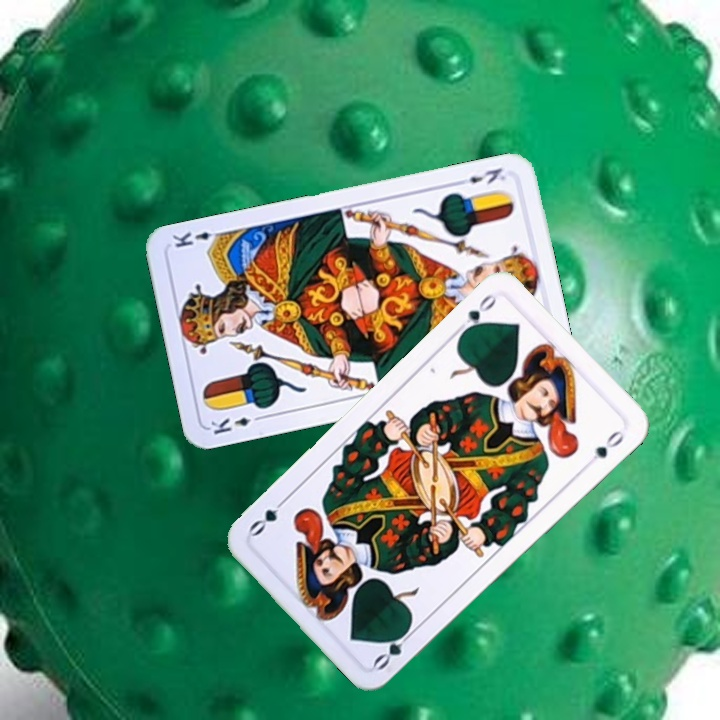EK: (206, 411, 266, 437), (452, 163, 509, 189)
GO: (369, 621, 418, 673), (451, 290, 499, 339)
